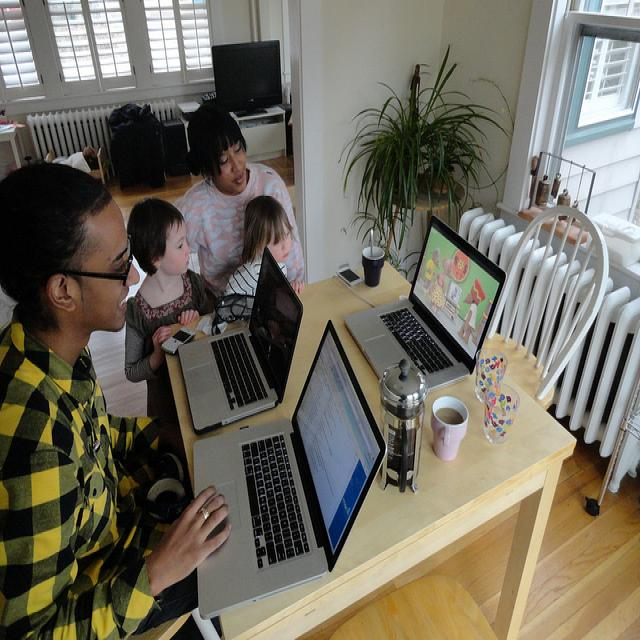chair: (485, 205, 608, 410), (333, 578, 500, 628)
